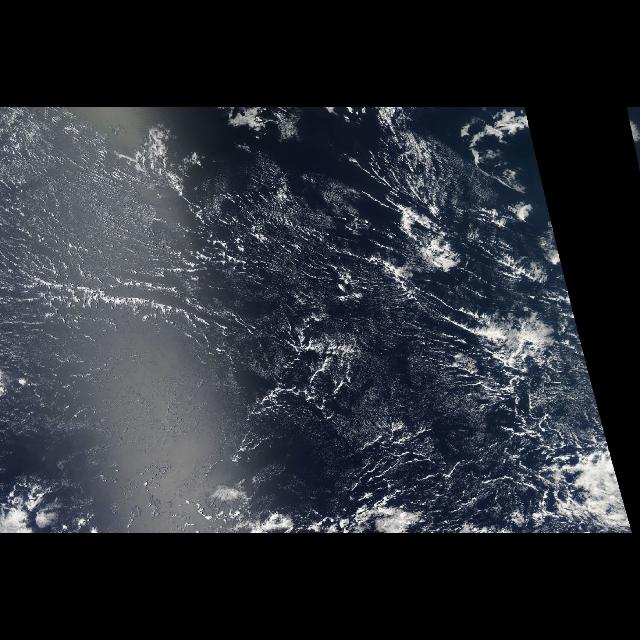Gravel: (398, 282, 566, 488), (262, 321, 364, 424)
Sugar: (2, 109, 570, 443)
